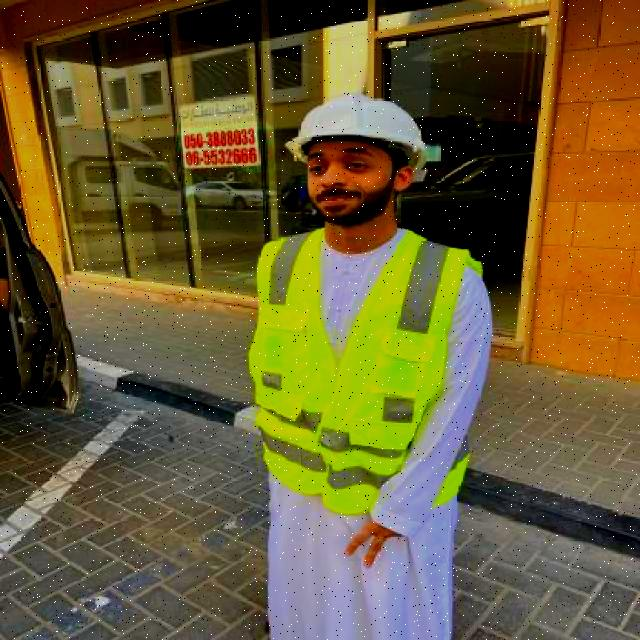Helmet: (287, 96, 427, 222)
Mask: (263, 235, 462, 508)
